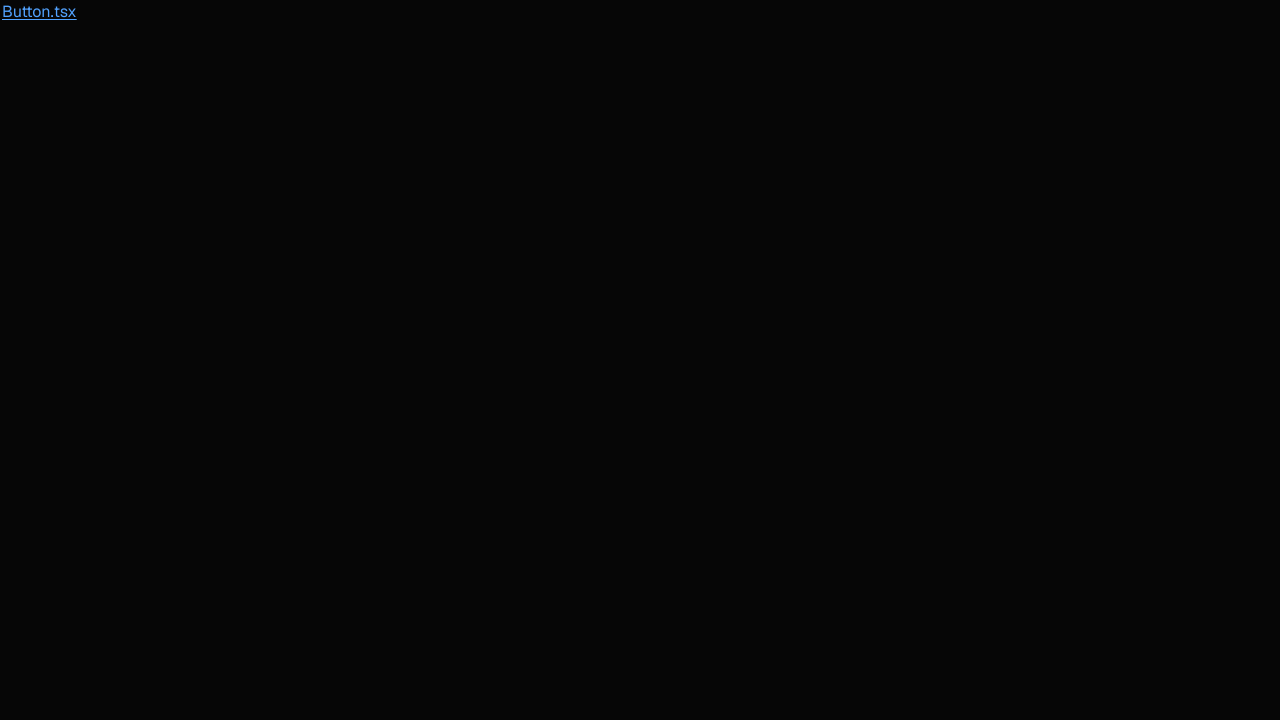
Test: TerminalFileLink - Sprint 14 Integration › should open FileMatchPopup for multiple matches
The image size is (1280, 720).
Click the button "Button.tsx".
click(39, 12)  # box top-left (0, 0), bottom-right (79, 24)
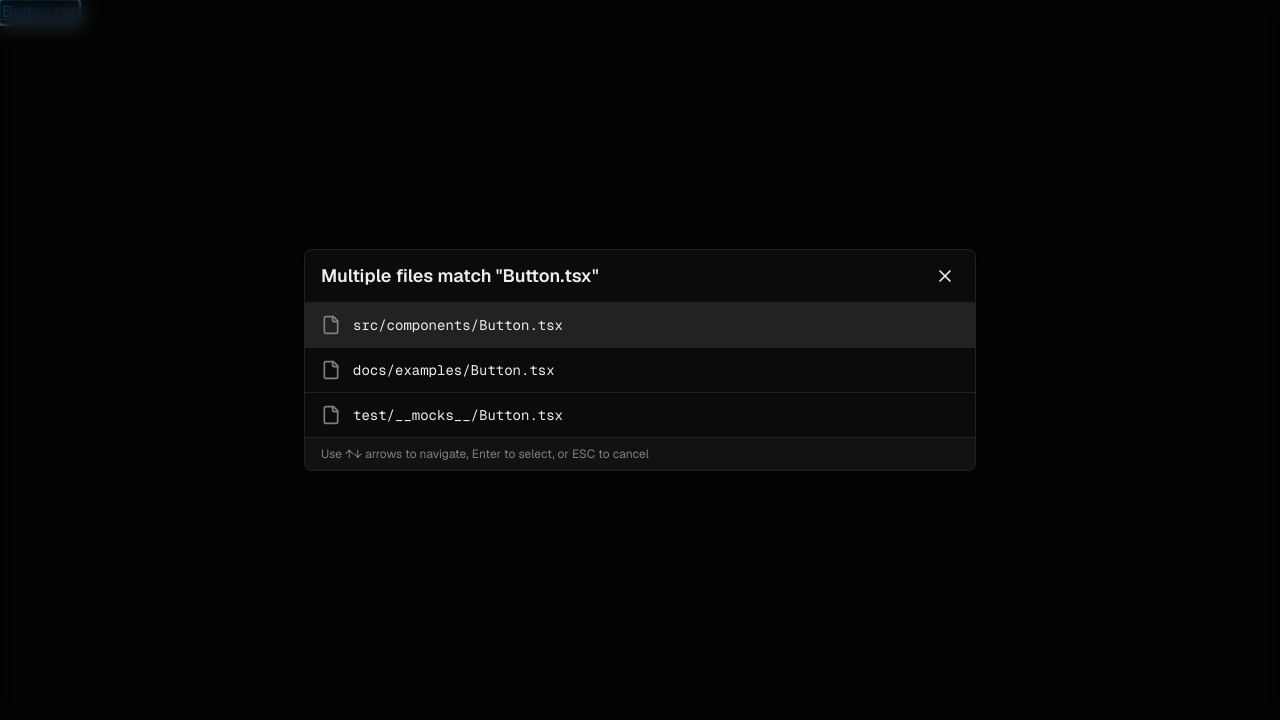
Result: the dialog is shown
Result: the heading "Multiple files match \"Button.tsx\"" is shown at top-left (321, 262), bottom-right (599, 290)
